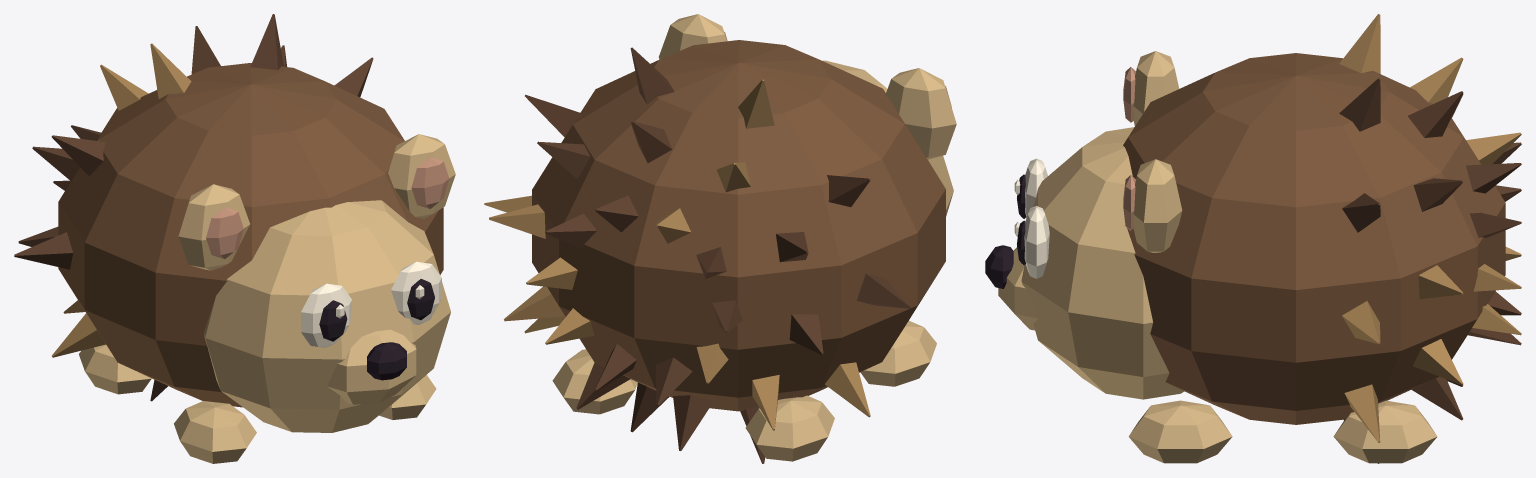
The model's file is jezek.glb.
The picture shows the model from 3 angles, left to right: view 1: azimuth 30°, elevation 25°; view 2: azimuth 150°, elevation 25°; view 3: azimuth 270°, elevation 25°; orthographic projection. The views are drawn at different scales.
Visible parts, largest first — view 1: jezek_hedgehog_body, jezek_face, jezek_quill, jezek_eye_white, jezek_quill_light, jezek_inner_ear, jezek_nose_eyes; view 2: jezek_hedgehog_body, jezek_quill, jezek_face, jezek_quill_light; view 3: jezek_hedgehog_body, jezek_face, jezek_quill_light, jezek_quill, jezek_eye_white, jezek_nose_eyes, jezek_inner_ear.
Part boxes in pixels (x1=…): jezek_hedgehog_body: x1=58, y1=63, x2=443, y2=407; jezek_face: x1=79, y1=134, x2=455, y2=463; jezek_quill: x1=14, y1=14, x2=373, y2=401; jezek_eye_white: x1=301, y1=261, x2=441, y2=347; jezek_quill_light: x1=52, y1=43, x2=191, y2=357; jezek_inner_ear: x1=206, y1=157, x2=449, y2=259; jezek_nose_eyes: x1=319, y1=279, x2=434, y2=380; jezek_hedgehog_body: x1=532, y1=40, x2=945, y2=411; jezek_quill: x1=525, y1=47, x2=910, y2=463; jezek_face: x1=552, y1=14, x2=956, y2=461; jezek_quill_light: x1=484, y1=79, x2=870, y2=430; jezek_hedgehog_body: x1=1123, y1=53, x2=1505, y2=424; jezek_face: x1=998, y1=51, x2=1437, y2=463; jezek_quill_light: x1=1339, y1=14, x2=1521, y2=442; jezek_quill: x1=1339, y1=78, x2=1521, y2=463; jezek_eye_white: x1=1014, y1=158, x2=1049, y2=278; jezek_nose_eyes: x1=985, y1=174, x2=1026, y2=288; jezek_inner_ear: x1=1123, y1=67, x2=1135, y2=230.
Size of the model in its own units: 0.3978 by 0.3425 by 0.4319.
